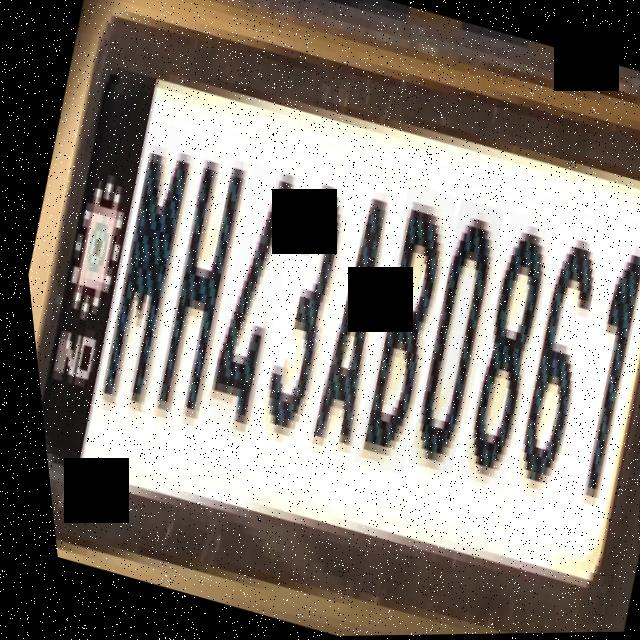0: (377, 199, 521, 477)
1: (530, 238, 640, 517)
3: (220, 166, 372, 462)
4: (170, 164, 320, 443)
6: (477, 217, 628, 500)
8: (425, 212, 573, 493)
A: (272, 176, 422, 476)
B: (320, 184, 475, 477)
H: (116, 141, 271, 427)
M: (65, 120, 223, 413)
